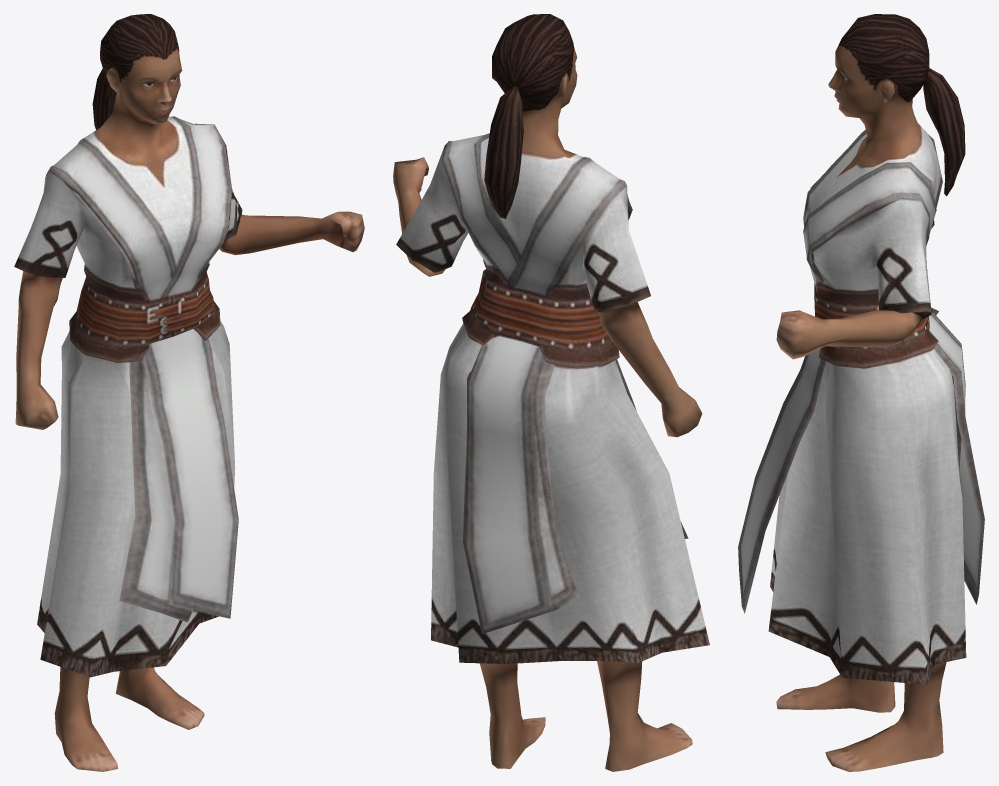
The model's file is body-female-base.glb.
3 renders of one model, left to right at view 1: azimuth 30°, elevation 25°; view 2: azimuth 150°, elevation 25°; view 3: azimuth 270°, elevation 25°, orthographic. The views are drawn at different scales.
Bounding box in the file's own units: 0.9993 × 2.09 × 0.6387.
1 material, 1 textured.
